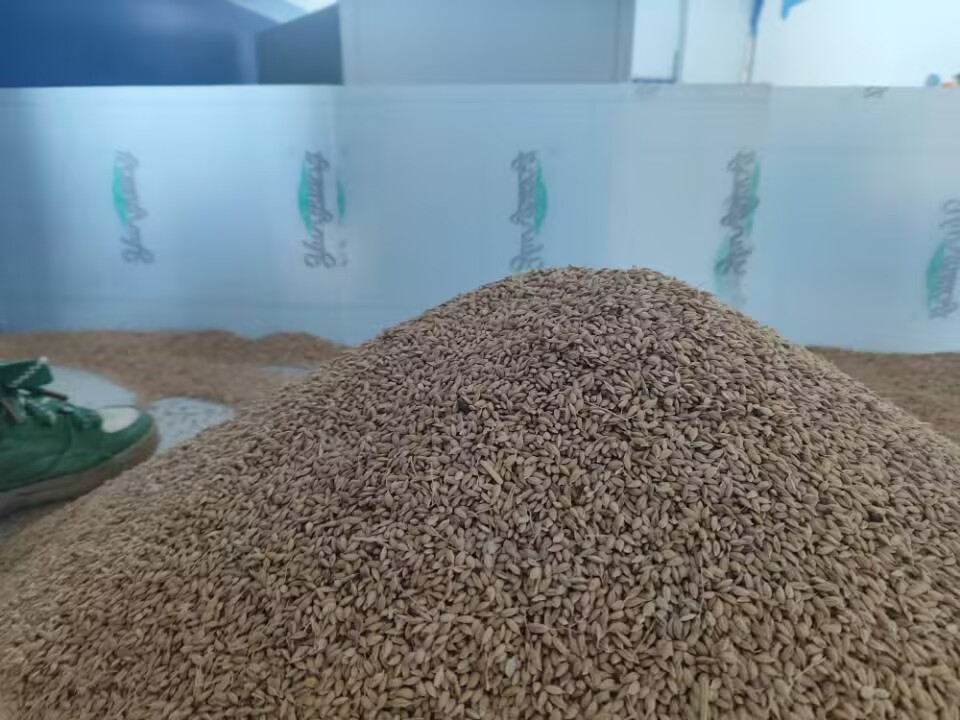Grain: (177, 245, 946, 699)
